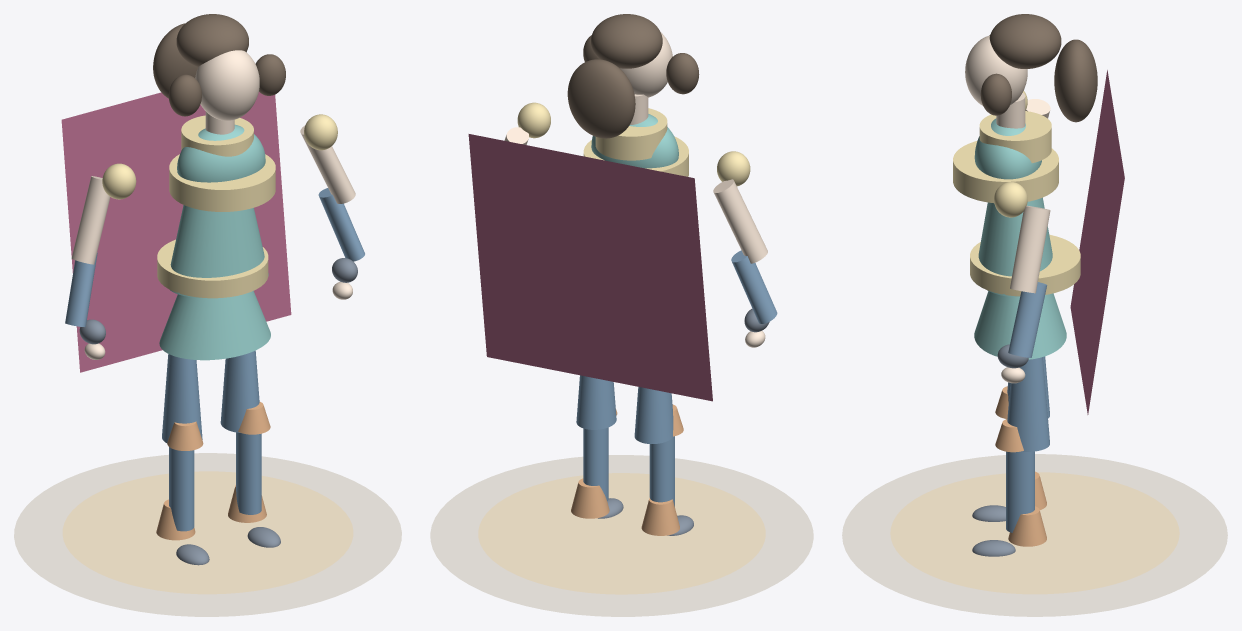
Rendered from codex-vitae-avatar.gltf.
3 renders of one model, left to right at view 1: azimuth 30°, elevation 25°; view 2: azimuth 150°, elevation 25°; view 3: azimuth 270°, elevation 25°, orthographic.
Parts seen in each view (by area): view 1: Cape, GroundGlow, GroundBase, Pelvis, LowerTorso, Head, ChestTrim, UpperTorso, Belt, HairCrown, UpperLegLeft, UpperLegRight (+19 smaller); view 2: Cape, GroundGlow, GroundBase, HairBack, HairCrown, UpperArmLeft, Collar, UpperLegLeft, UpperLegRight, LowerLegLeft, LowerLegRight, ForearmLeft (+8 smaller); view 3: GroundGlow, GroundBase, Cape, Pelvis, HairCrown, ChestTrim, UpperLegRight, HairBack, Belt, LowerTorso, UpperArmRight, Collar (+10 smaller).
Boxes of the visible parts, <box> form: Cape: <box>61,92,291,372</box>; GroundGlow: <box>62,471,353,594</box>; GroundBase: <box>14,453,401,616</box>; Pelvis: <box>159,291,270,360</box>; LowerTorso: <box>170,205,268,297</box>; Head: <box>195,50,259,120</box>; ChestTrim: <box>169,154,275,211</box>; UpperTorso: <box>177,124,265,182</box>; Belt: <box>157,239,268,298</box>; HairCrown: <box>176,14,248,66</box>; UpperLegLeft: <box>162,354,202,443</box>; UpperLegRight: <box>220,350,259,432</box>; Cape: <box>468,134,712,401</box>; GroundGlow: <box>478,473,765,594</box>; GroundBase: <box>430,455,813,616</box>; HairBack: <box>567,59,635,138</box>; HairCrown: <box>591,14,662,68</box>; UpperArmLeft: <box>713,179,767,263</box>; Collar: <box>595,108,667,160</box>; UpperLegLeft: <box>634,387,673,443</box>; UpperLegRight: <box>576,375,616,429</box>; LowerLegLeft: <box>649,436,674,506</box>; LowerLegRight: <box>583,427,608,501</box>; ForearmLeft: <box>731,250,777,323</box>; GroundGlow: <box>890,472,1179,594</box>; GroundBase: <box>842,454,1227,616</box>; Cape: <box>1070,70,1124,414</box>; Pelvis: <box>974,291,1066,359</box>; HairCrown: <box>989,14,1061,68</box>; ChestTrim: <box>953,141,1058,202</box>; UpperLegRight: <box>1007,357,1049,451</box>; HairBack: <box>1054,39,1097,122</box>; Belt: <box>970,234,1080,296</box>; LowerTorso: <box>978,197,1052,296</box>; UpperArmRight: <box>1010,205,1050,293</box>; Collar: <box>979,111,1051,163</box>.
Size of the model in its own units: 3.2 by 4.79 by 3.2.
